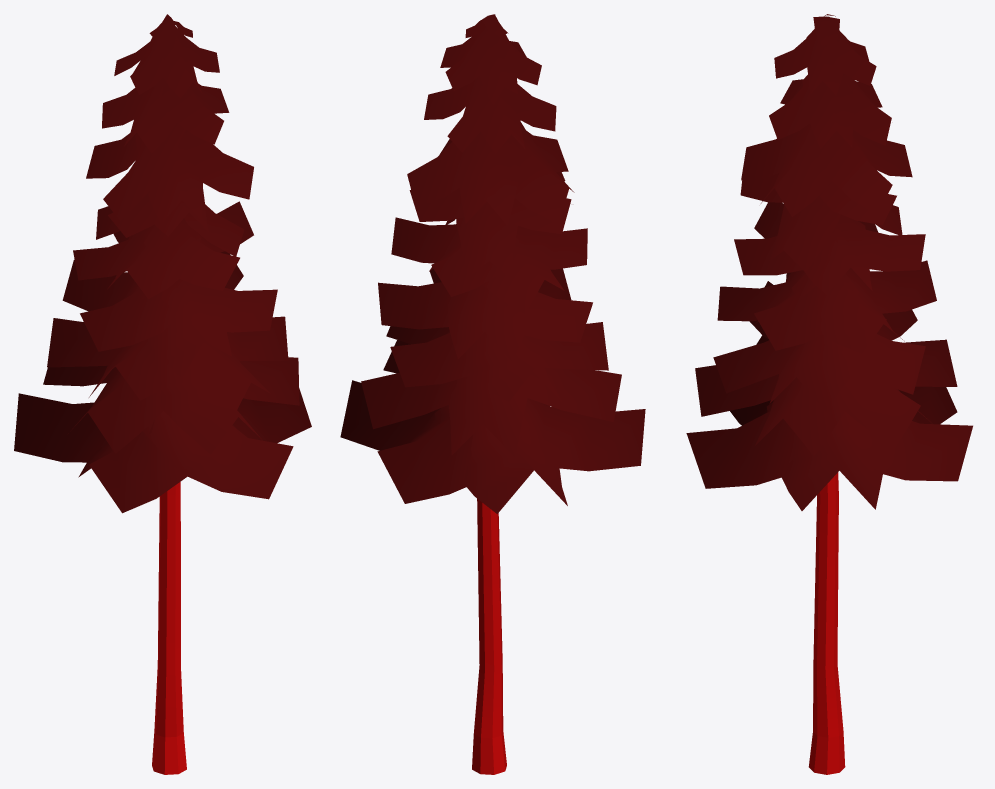
The model's file is SM_Tree_Pine_Large_02.glb.
The picture shows the model from 3 angles, left to right: view 1: azimuth 30°, elevation 25°; view 2: azimuth 150°, elevation 25°; view 3: azimuth 270°, elevation 25°; orthographic projection.
Visible parts, largest first — view 1: SM_Tree_Pine_Large_02; view 2: SM_Tree_Pine_Large_02; view 3: SM_Tree_Pine_Large_02.
Part boxes in pixels (x1,y1,x2,y2): SM_Tree_Pine_Large_02: (14,14,311,774); SM_Tree_Pine_Large_02: (340,14,645,774); SM_Tree_Pine_Large_02: (686,14,972,774).
Bounding box in the file's own units: 3.14 × 8.59 × 3.17.
